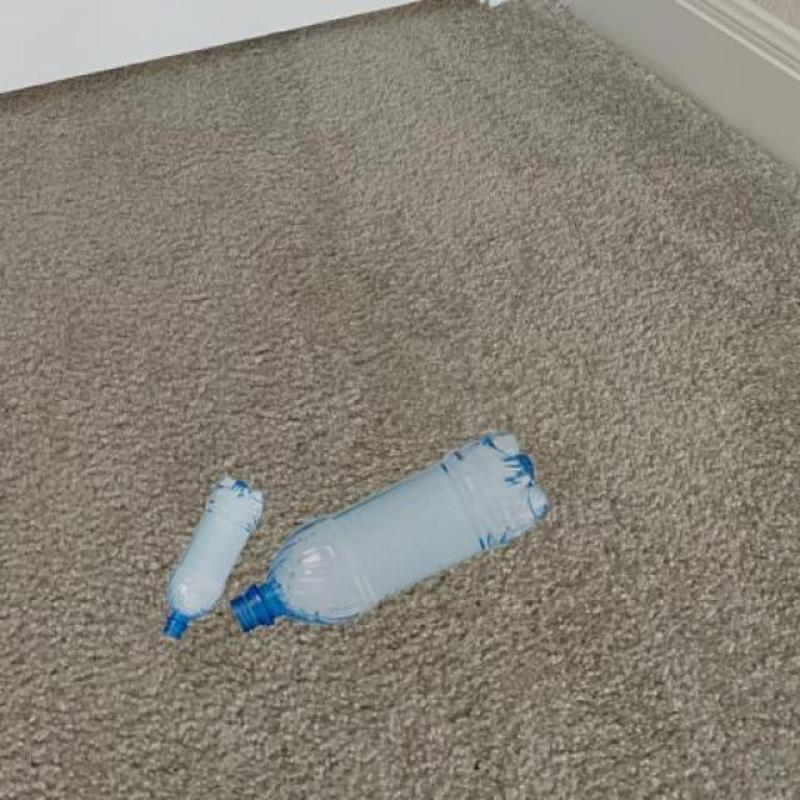botella: (230, 427, 554, 632), (162, 478, 263, 640)
